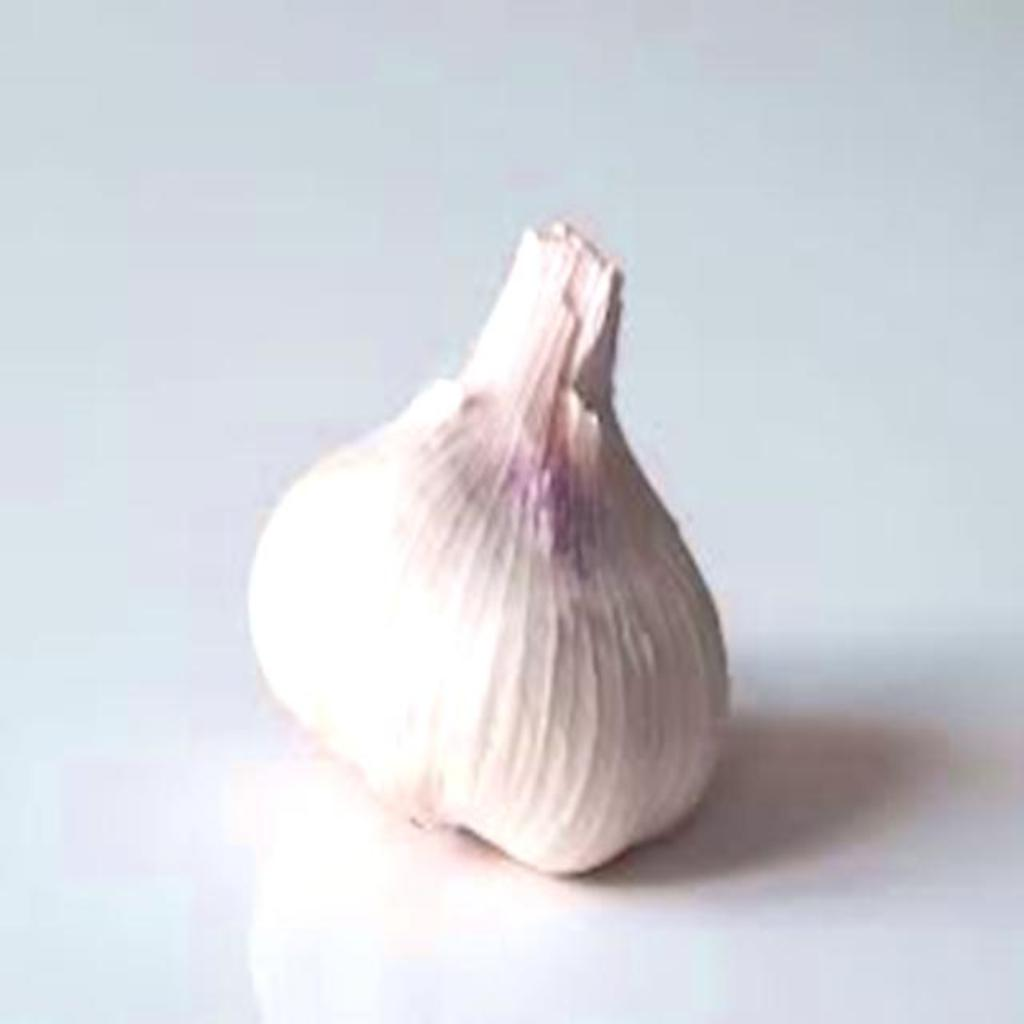garlic: (248, 222, 728, 871)
